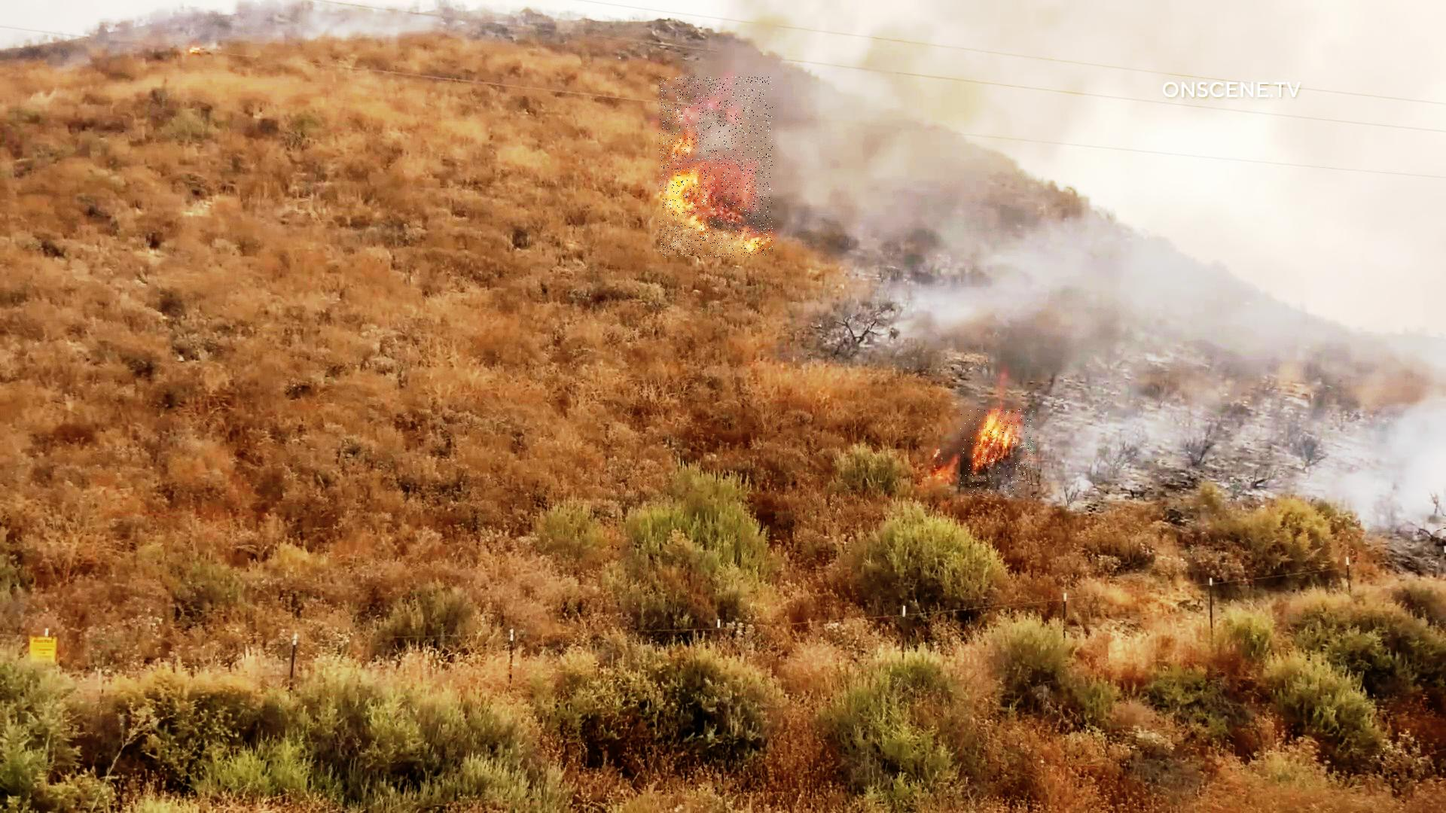fire: (660, 77, 773, 258), (961, 409, 1035, 497)
